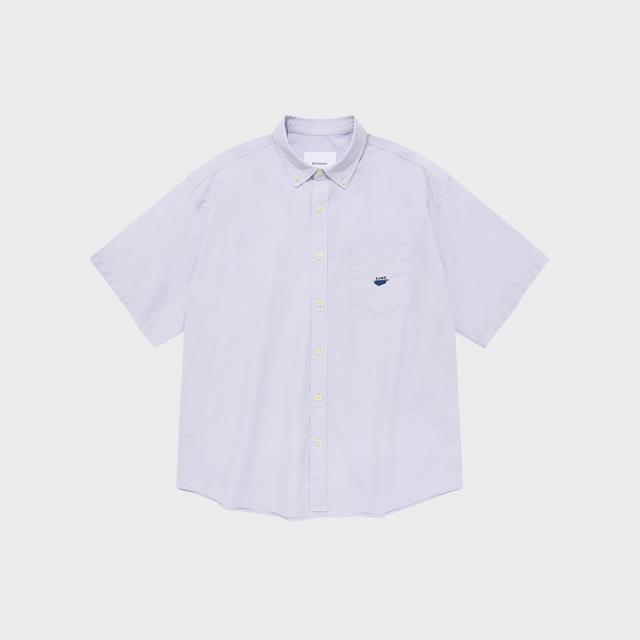Blouse_deep: (111, 101, 523, 498)
